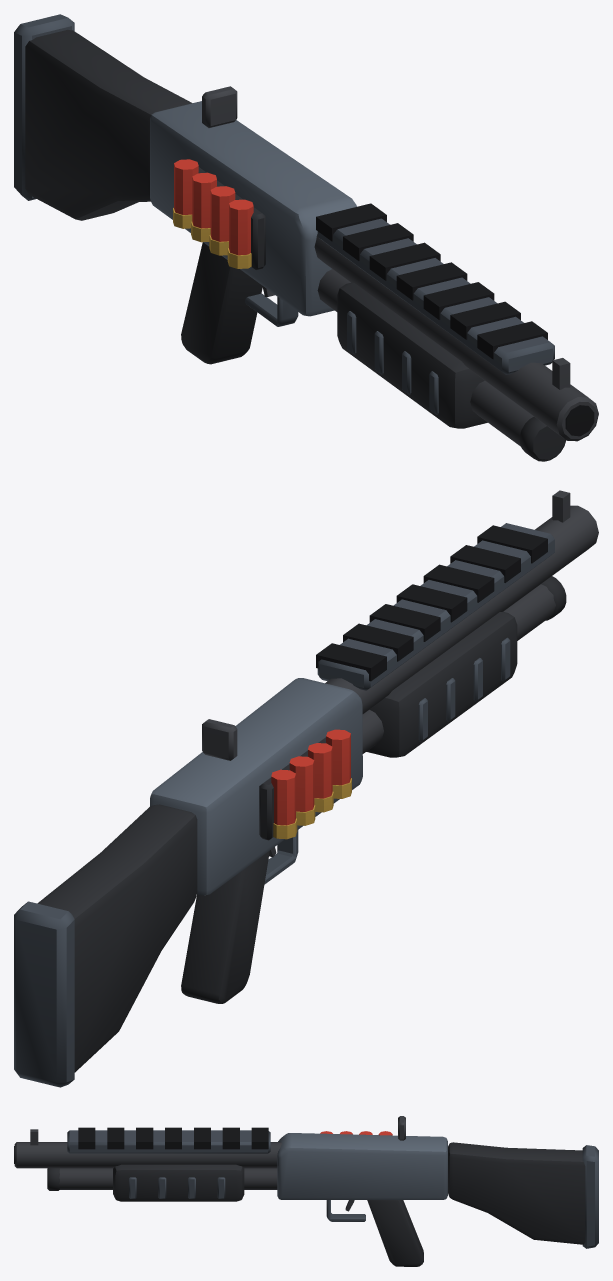
File: tactical_shotgun.glb
The picture shows the model from 3 angles, top to bottom: view 1: azimuth 30°, elevation 25°; view 2: azimuth 150°, elevation 25°; view 3: azimuth 270°, elevation 25°; orthographic projection. The views are drawn at different scales.
Visible parts, largest first — view 1: tactical_body, tactical_metal, tactical_shells; view 2: tactical_body, tactical_metal, tactical_shells; view 3: tactical_body, tactical_metal.
Boxes of the visible parts, x1,y1,x2,y2 form: tactical_body: [14, 14, 487, 428]; tactical_metal: [202, 86, 598, 461]; tactical_shells: [173, 159, 265, 269]; tactical_body: [14, 611, 517, 1087]; tactical_metal: [202, 490, 598, 760]; tactical_shells: [259, 729, 351, 840]; tactical_body: [113, 1133, 598, 1266]; tactical_metal: [14, 1116, 405, 1190].
Size of the model in its own units: 0.0935 by 0.241 by 0.891.
